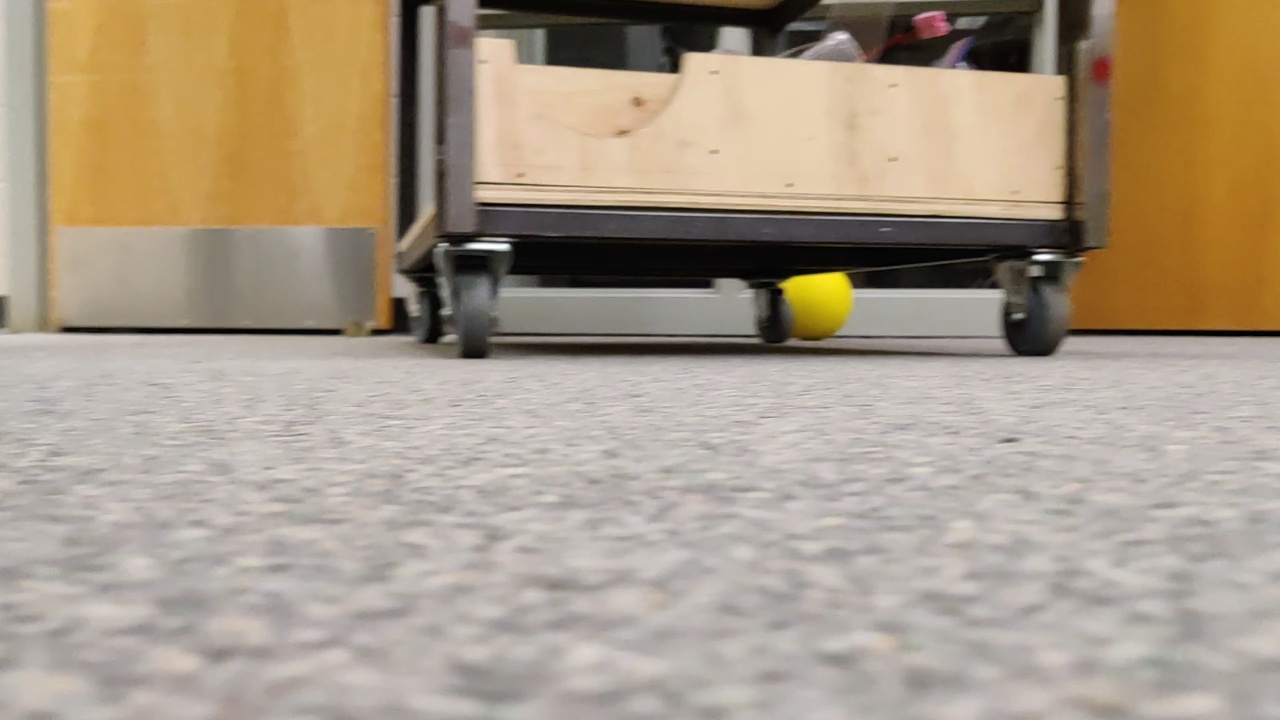Ball: (742, 265, 873, 352)
